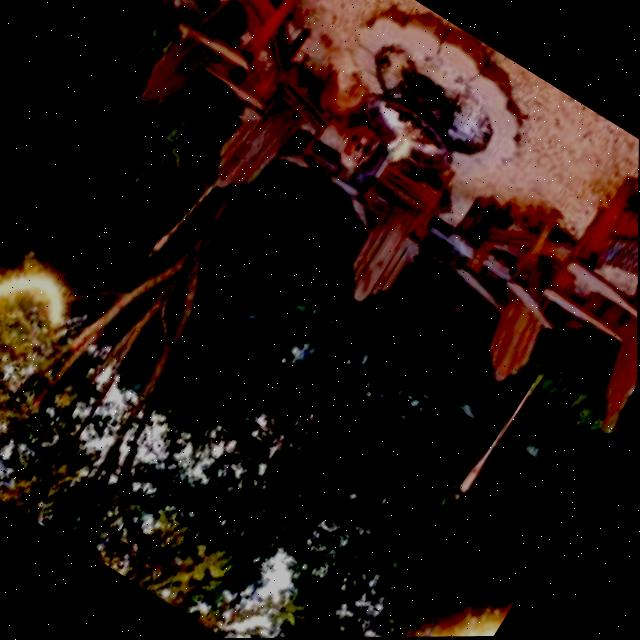Fire: (364, 100, 434, 176)
